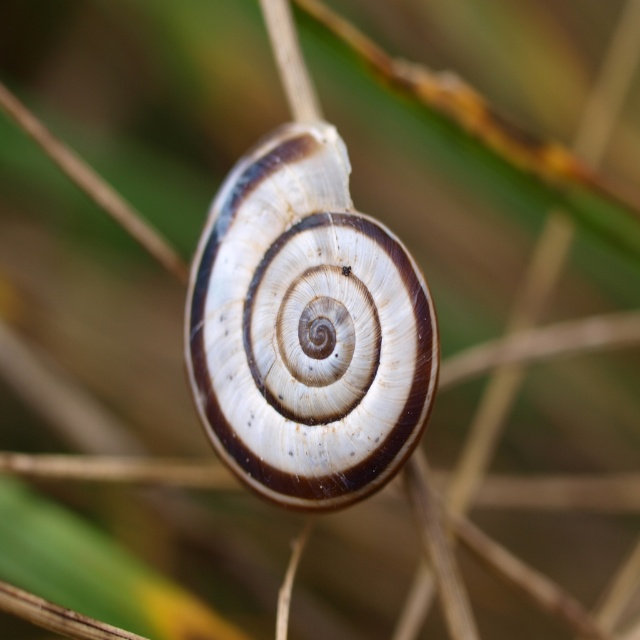Snail: (182, 110, 444, 521)
